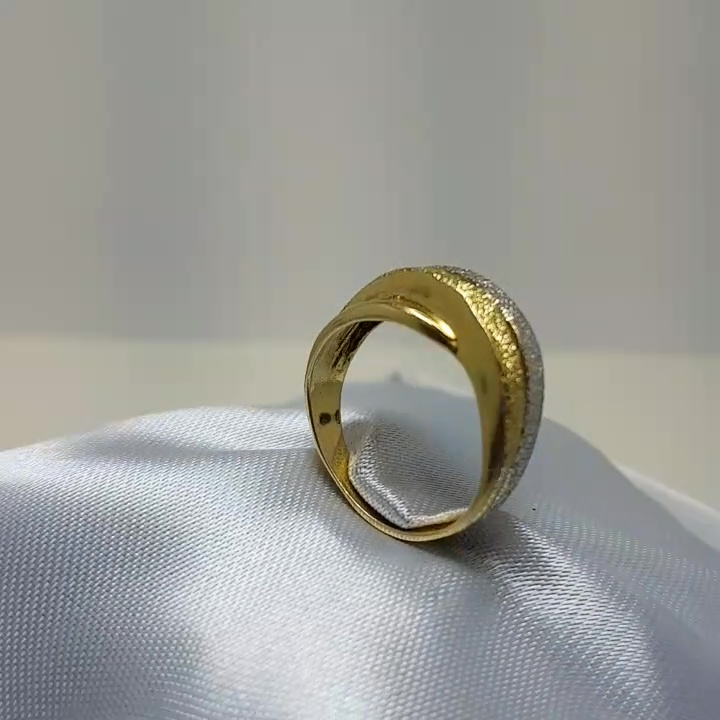Ring 5: (287, 253, 557, 548)
